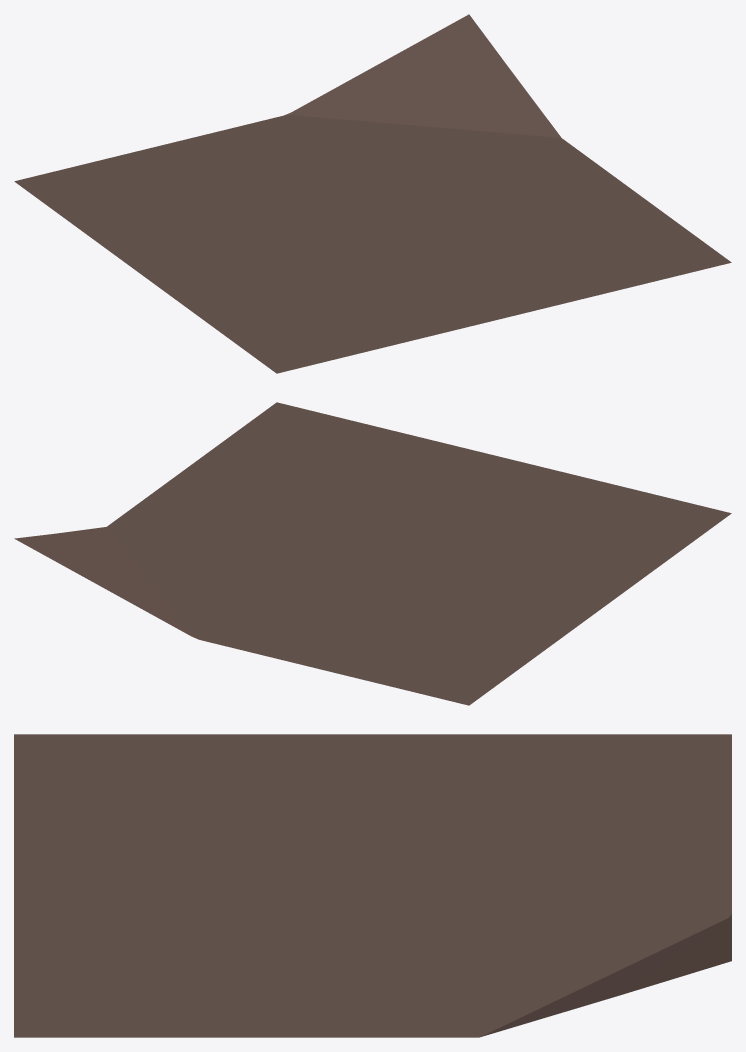
The model's file is cell_254.obj.
3 views of the same model, one above another, from view 1: azimuth 30°, elevation 25°; view 2: azimuth 150°, elevation 25°; view 3: azimuth 270°, elevation 25° (orthographic). The views are drawn at different scales.
Size of the model in its own units: 1 by 0.1177 by 1.
